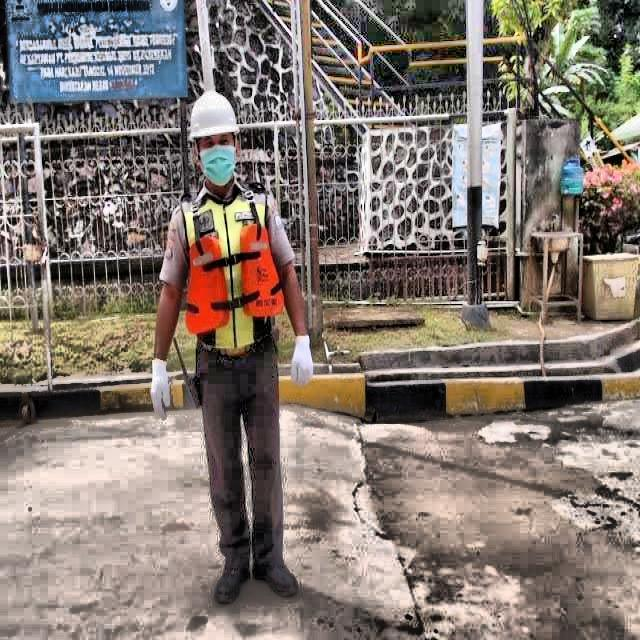safety_helmet: (172, 88, 248, 142)
safety_jacket: (177, 194, 290, 357)
